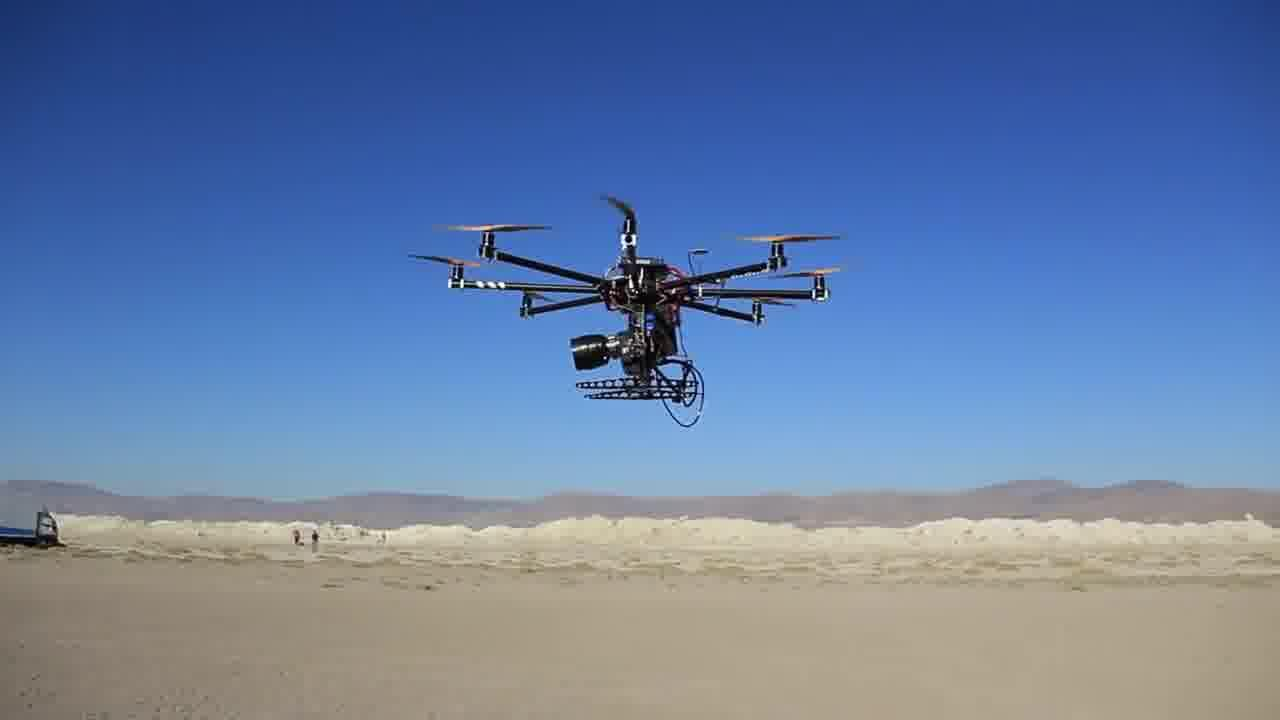drone: (410, 176, 838, 417)
